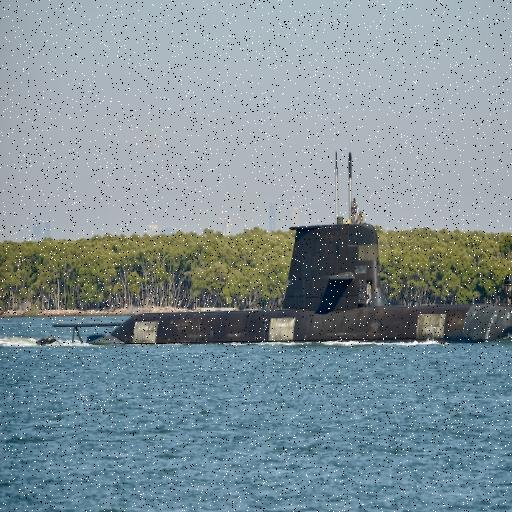submarine: (62, 221, 512, 349)
